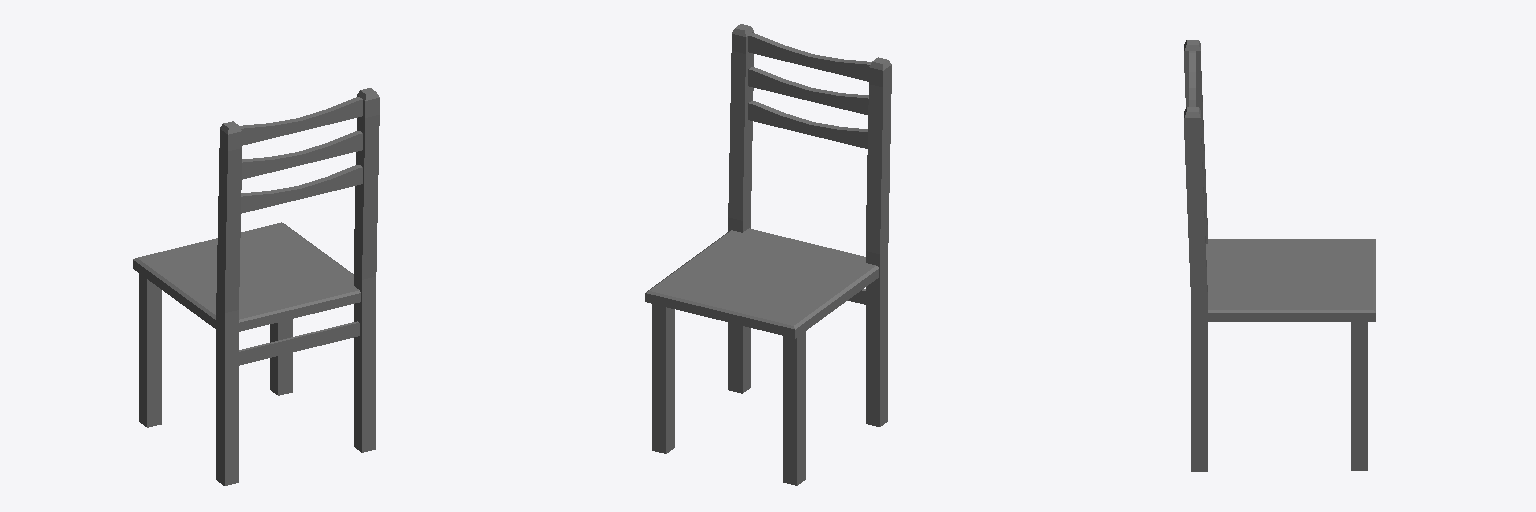
File: TOPOR.obj
3 renders of one model, left to right at view 1: azimuth 30°, elevation 25°; view 2: azimuth 150°, elevation 25°; view 3: azimuth 270°, elevation 25°, orthographic.
Parts seen in each view (by area): view 1: TOPOR:Mesh; view 2: TOPOR:Mesh; view 3: TOPOR:Mesh.
Part boxes in pixels (bbox=[...]): TOPOR:Mesh: bbox=[133, 88, 379, 485]; TOPOR:Mesh: bbox=[645, 24, 891, 485]; TOPOR:Mesh: bbox=[1184, 40, 1375, 471].
Size of the model in its own units: 3.75 by 8.51 by 4.1.